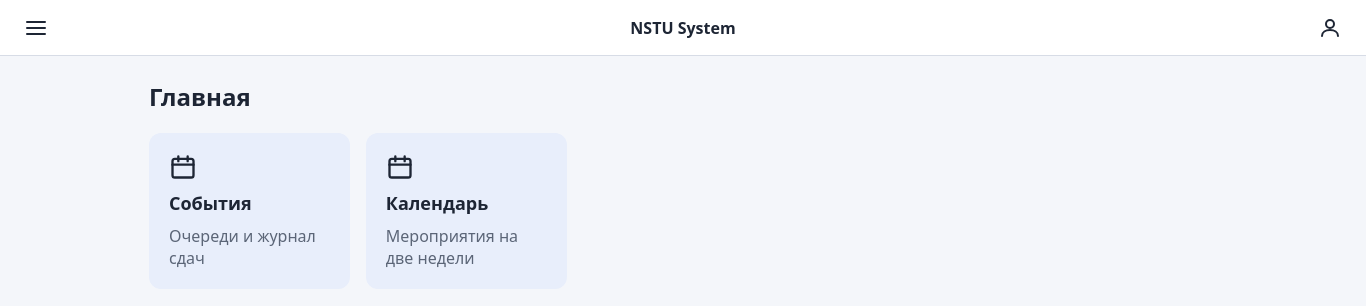
Test case: оболочка интерфейса и иконка пользователя › клик по свободному месту закрывает мини-инфо
Expected: the list with test id "module-grid" is shown, [149,133,567,289]
What coordinates should you click on to do the following:
click the button named "Пользователь"
I would click on:
 (1330, 28)
Its box is [1310,8,1350,48].
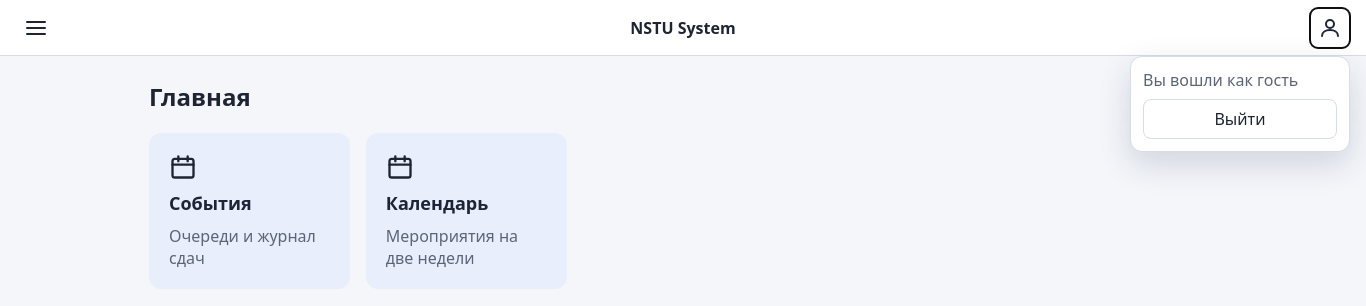
Result: the element with test id "user-menu" showing "Вы вошли как гость Выйти" is shown at [1130,56,1350,152]
What coordinates should you click on to do the following:
click the heading "Главная"
I would click on:
 (200, 96)
Its box is [149,80,251,113].
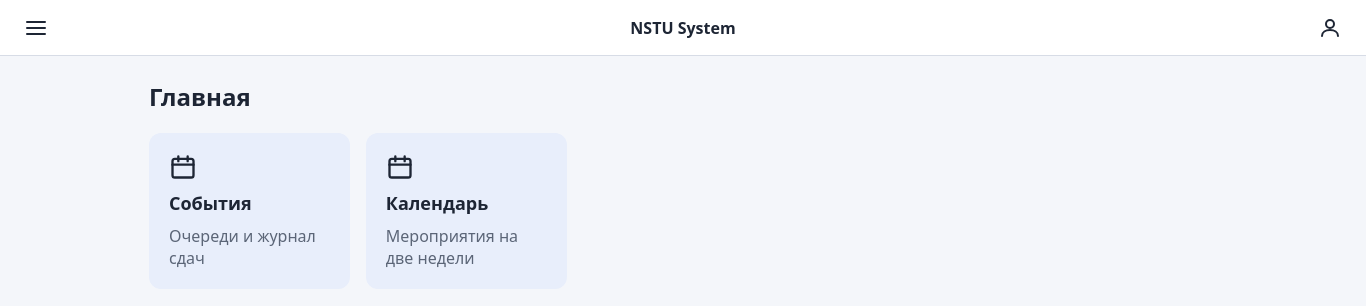
Result: the text "Вы вошли как гость Выйти" is gone
